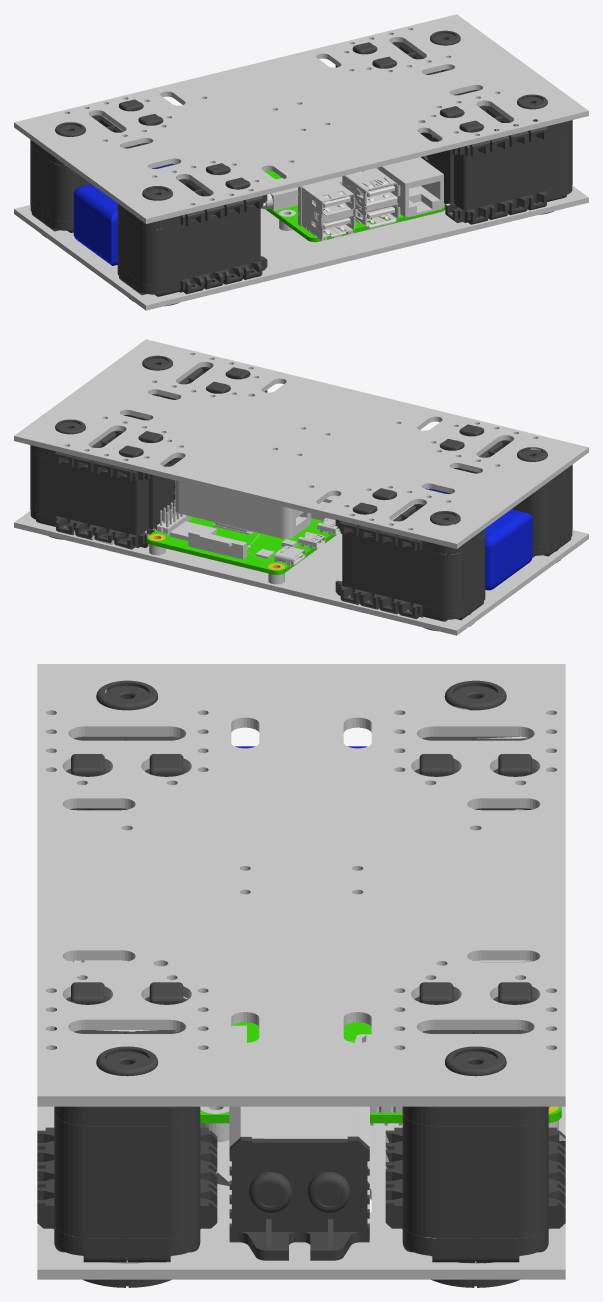
3 renders of one model, top to bottom at view 1: azimuth 30°, elevation 25°; view 2: azimuth 150°, elevation 25°; view 3: azimuth 270°, elevation 25°, orthographic. The views are drawn at different scales.
Parts seen in each view (by area): view 1: tmp_export_base_link; view 2: tmp_export_base_link; view 3: tmp_export_base_link.
Part boxes in pixels (<box>): tmp_export_base_link: <box>14,14,588,310</box>; tmp_export_base_link: <box>14,339,588,635</box>; tmp_export_base_link: <box>37,664,565,1287</box>.
Bounding box in the file's own units: 0.182 × 0.094 × 0.04.
